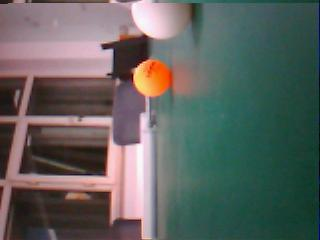oball: (134, 60, 170, 98)
